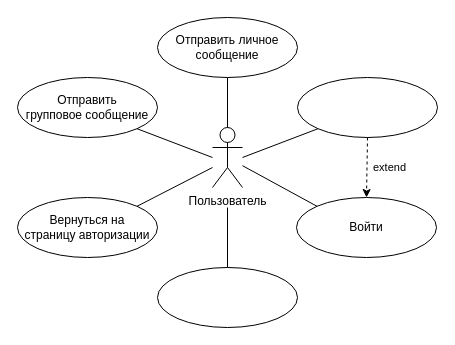
The diagram is 455 pixels wide and 345 high, and some of its shapes have lost their labels. Here are the shapes that lost their labels. From the top down, the box of each, then its label:
(296, 76, 438, 138): Зарегистрироваться
(156, 266, 298, 328): Выйти
